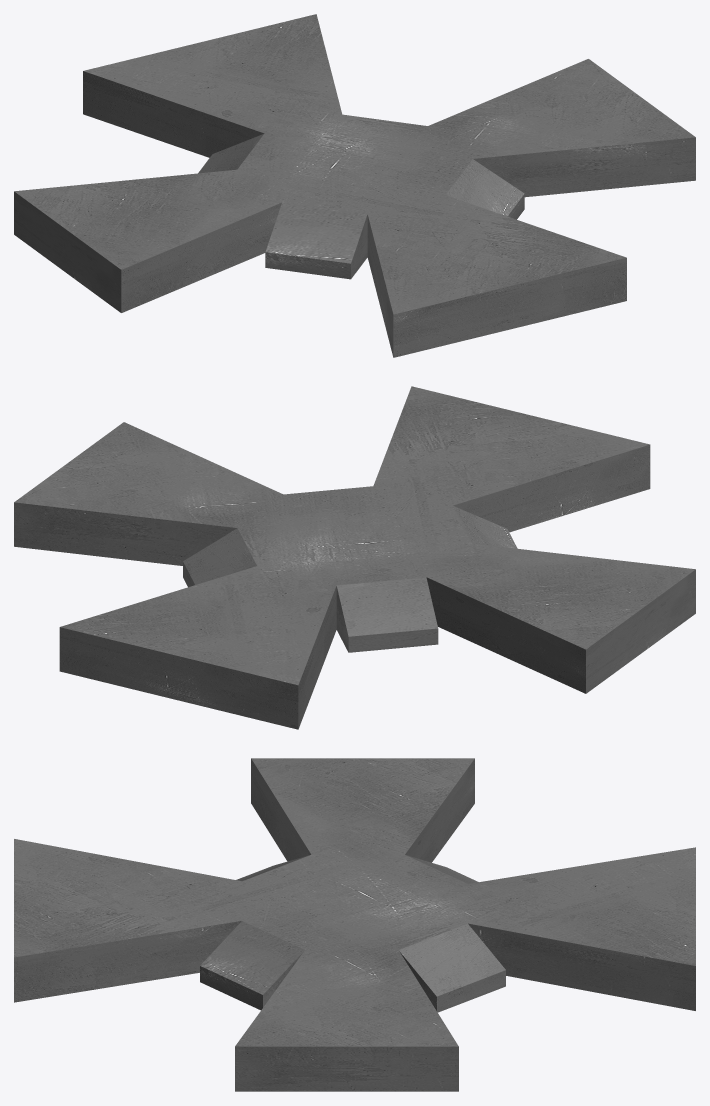
Rendered from FanBlade.glb.
The picture shows the model from 3 angles, top to bottom: view 1: azimuth 30°, elevation 25°; view 2: azimuth 150°, elevation 25°; view 3: azimuth 270°, elevation 25°; orthographic projection. The views are drawn at different scales.
Parts seen in each view (by area): view 1: Cube.001; view 2: Cube.001; view 3: Cube.001.
Part boxes in pixels (x1,y1,x2,y2): Cube.001: (14,14,695,357); Cube.001: (14,386,695,729); Cube.001: (14,758,695,1091).
Size of the model in its own units: 7.82 by 0.5711 by 7.82.
Materials: 1 (1 with a texture image).
